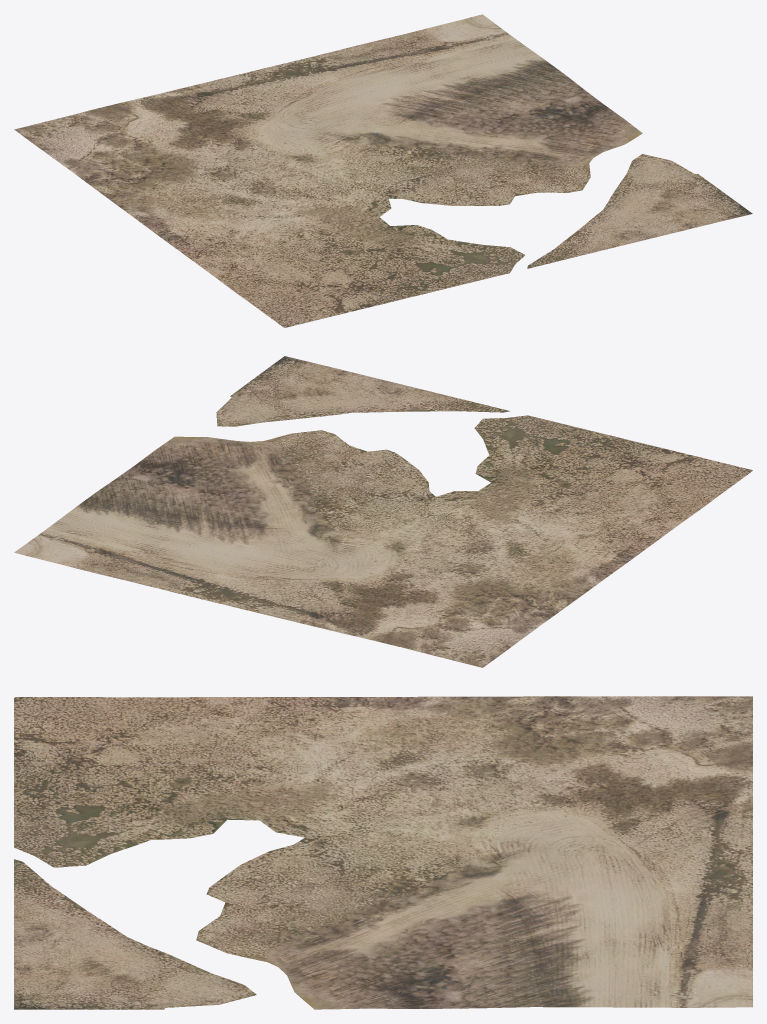
The model's file is CM_Terrain_24490458_6819180.fbx.
3 views of the same model, one above another, from view 1: azimuth 30°, elevation 25°; view 2: azimuth 150°, elevation 25°; view 3: azimuth 270°, elevation 25° (orthographic). The views are drawn at different scales.
Parts seen in each view (by area): view 1: CM_Terrain_24490458_6819180_LOD0; view 2: CM_Terrain_24490458_6819180_LOD0; view 3: CM_Terrain_24490458_6819180_LOD0.
Part boxes in pixels (x1=…): CM_Terrain_24490458_6819180_LOD0: x1=14, y1=14, x2=752, y2=327; CM_Terrain_24490458_6819180_LOD0: x1=14, y1=356, x2=752, y2=667; CM_Terrain_24490458_6819180_LOD0: x1=14, y1=696, x2=752, y2=1009.
Size of what is drawn, in the model's own units: 205 by 1.13 by 205.
